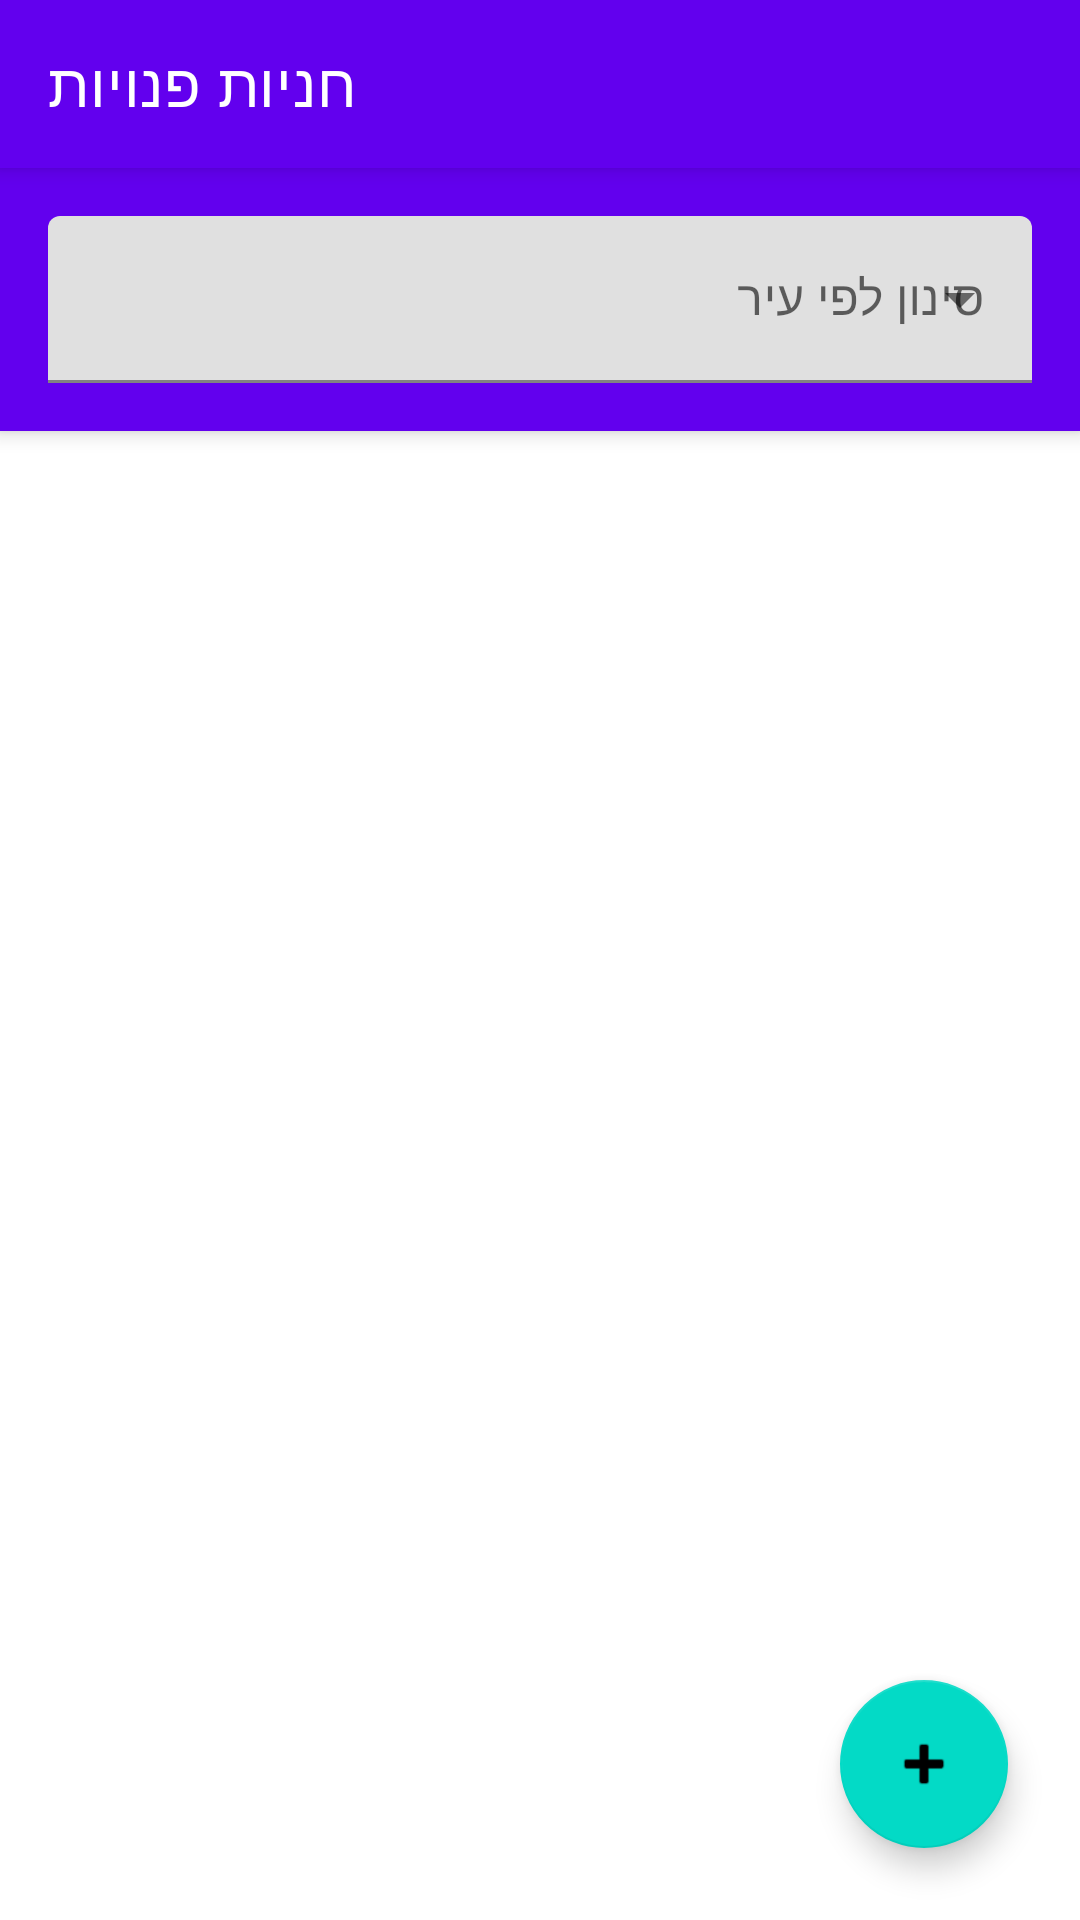

Point at icon controls on the screen. Image size 1080×1920, points as (x,y).
הוסף דיווח חדש: (924,1764)
